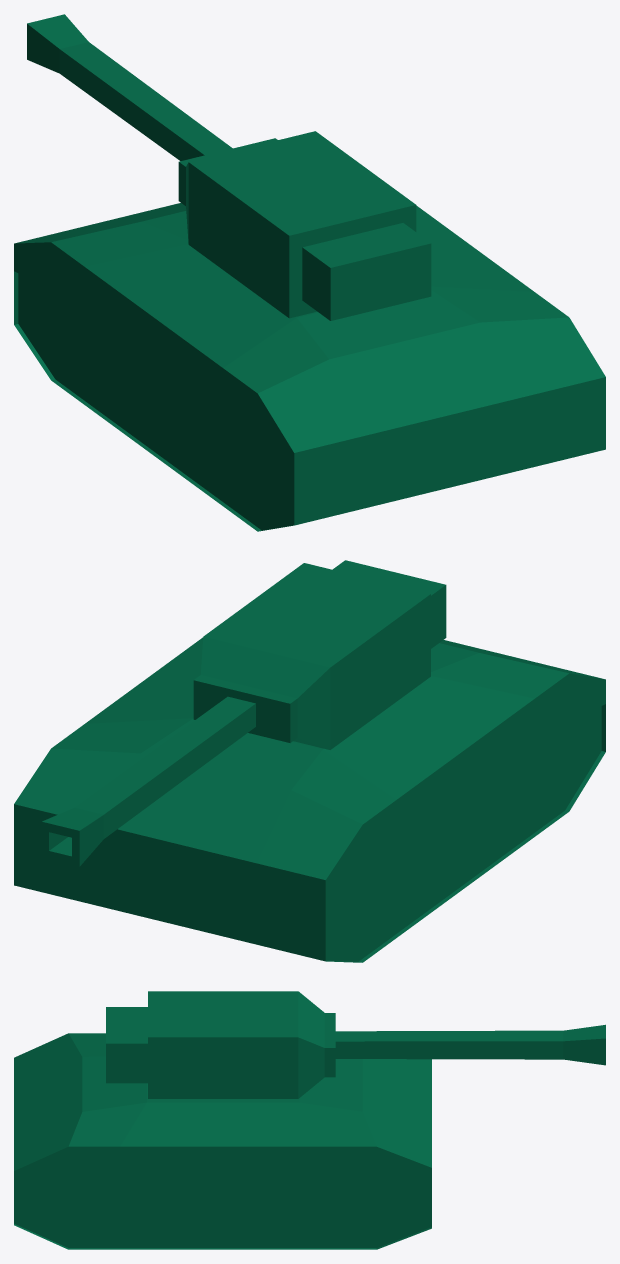
The model's file is Tank.gltf.
3 views of the same model, one above another, from view 1: azimuth 30°, elevation 25°; view 2: azimuth 150°, elevation 25°; view 3: azimuth 270°, elevation 25° (orthographic). The views are drawn at different scales.
Parts seen in each view (by area): view 1: Cube, Cube.001; view 2: Cube, Cube.001; view 3: Cube, Cube.001.
Boxes of the visible parts, x1,y1,x2,y2 form: Cube: (14, 203, 605, 531); Cube.001: (27, 14, 431, 320); Cube: (14, 637, 605, 962); Cube.001: (41, 560, 446, 866); Cube: (14, 1033, 431, 1249); Cube.001: (106, 991, 605, 1098).
Bounding box in the file's own units: 5.22 × 3.78 × 11.51.
